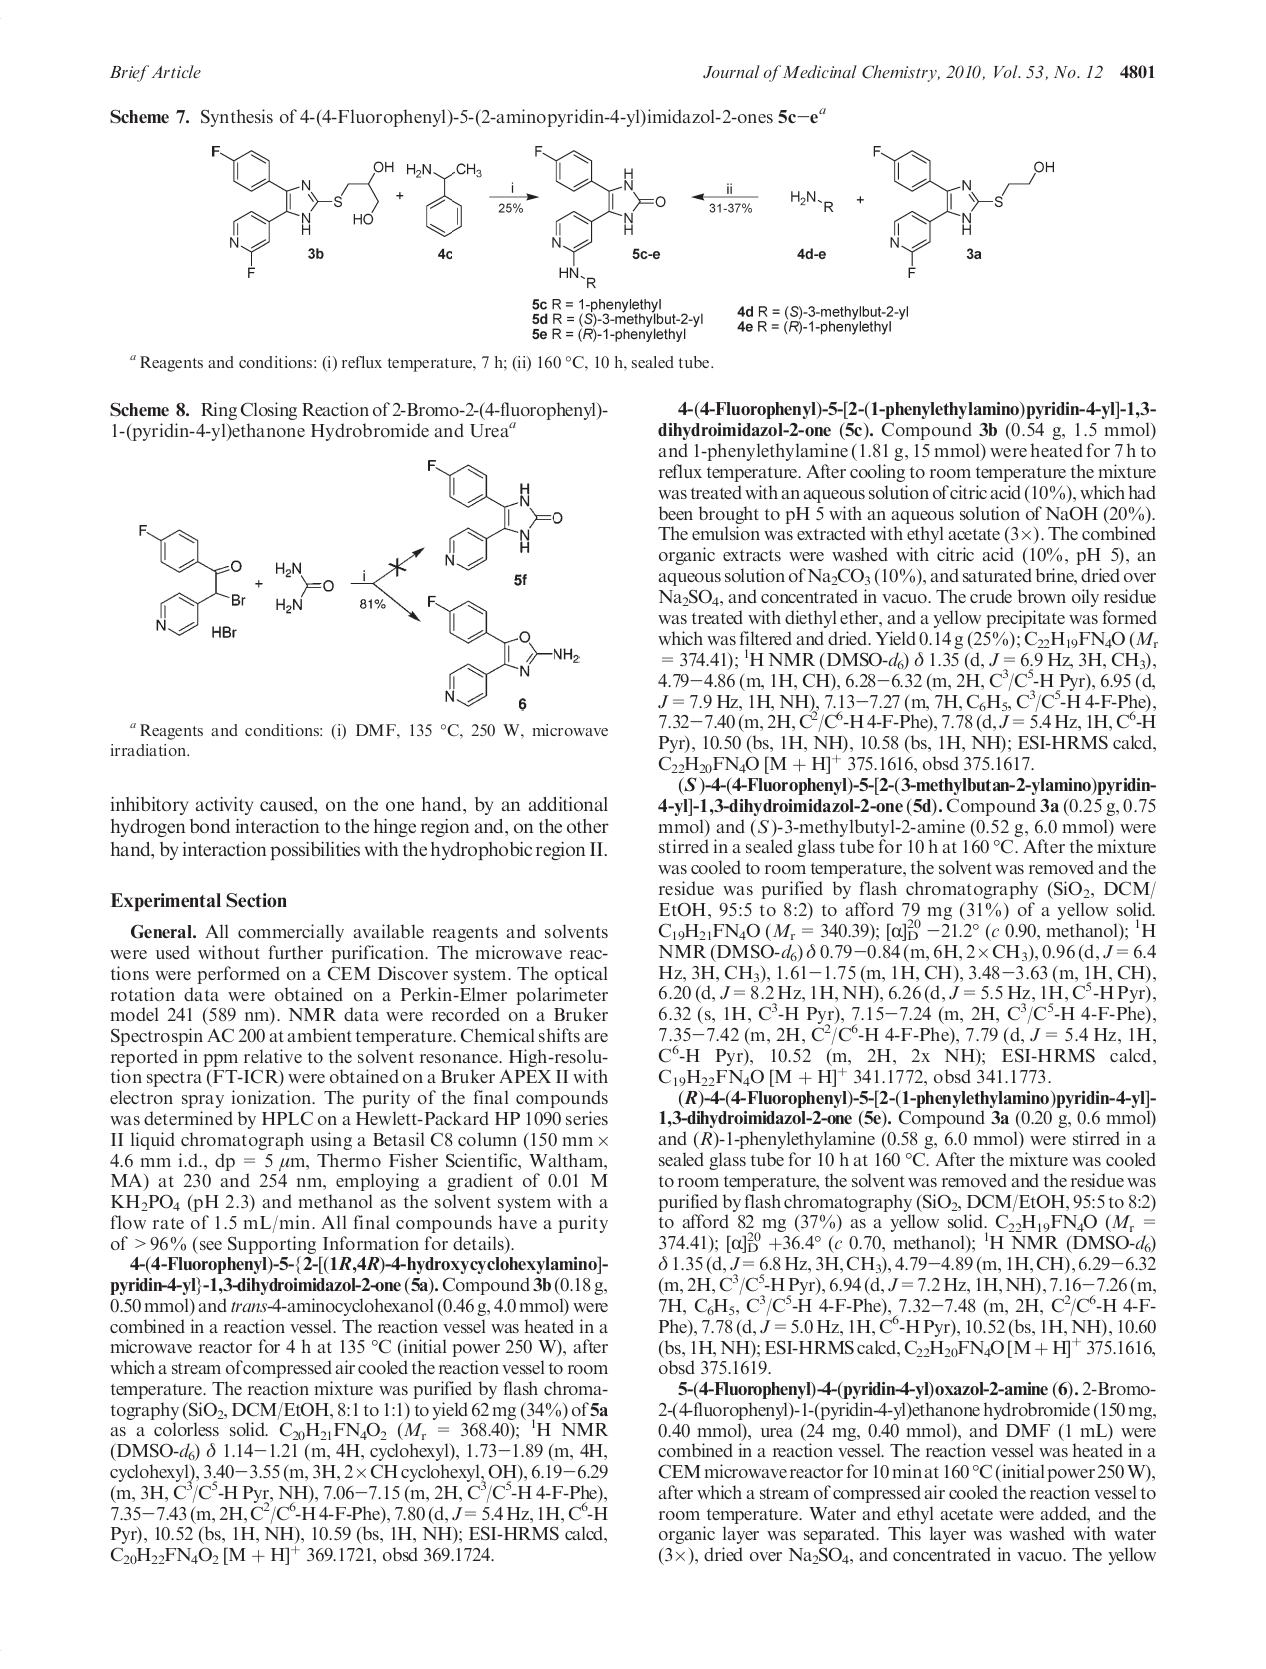exist_molecular: (202, 134, 396, 285), (868, 140, 1064, 282), (531, 140, 680, 291), (414, 588, 586, 711), (423, 451, 564, 572), (132, 517, 243, 638), (402, 160, 483, 238), (270, 557, 332, 622)
